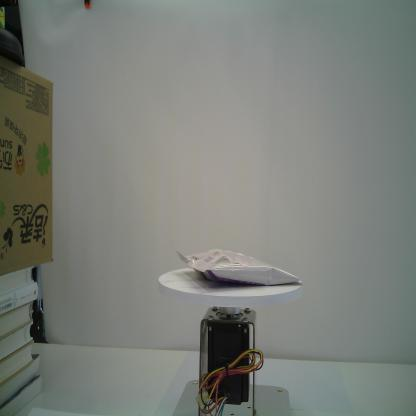Instant Drink: (175, 248, 308, 287)
